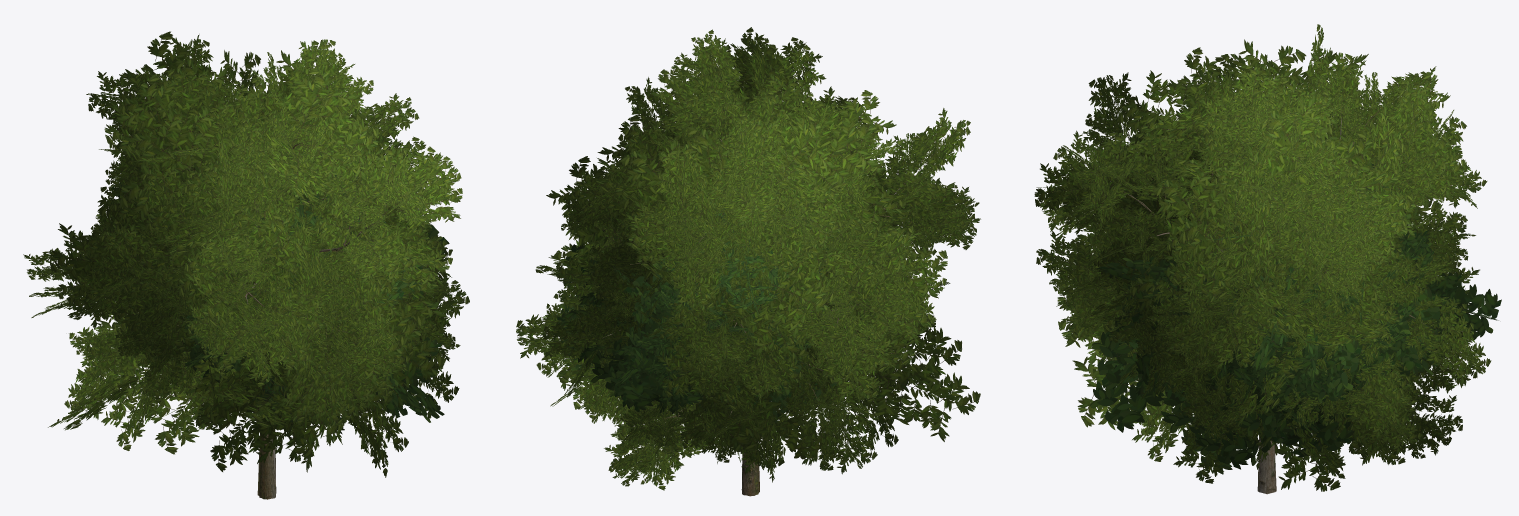
File: trees.glb
3 views of the same model, side by side, from view 1: azimuth 30°, elevation 25°; view 2: azimuth 150°, elevation 25°; view 3: azimuth 270°, elevation 25° (orthographic).
Visible parts, largest first — view 1: oak_leaves, oak_far_leaves, magnolia_far_leaves, magnolia_leaves, oak_bark, street_far_leaves, oak_far_bark; view 2: oak_leaves, oak_far_leaves, magnolia_leaves, magnolia_far_leaves, street_far_leaves, oak_bark; view 3: oak_leaves, oak_far_leaves, magnolia_far_leaves, magnolia_leaves, oak_bark.
Boxes of the visible parts, box(x1,y1,x2,y2) form: oak_leaves: box(23, 34, 469, 429); oak_far_leaves: box(48, 31, 449, 477); magnolia_far_leaves: box(142, 175, 449, 434); magnolia_leaves: box(111, 173, 430, 389); oak_bark: box(134, 106, 389, 499); street_far_leaves: box(165, 203, 323, 433); oak_far_bark: box(249, 142, 360, 499); oak_leaves: box(516, 27, 980, 490); oak_far_leaves: box(535, 44, 980, 451); magnolia_leaves: box(557, 207, 828, 416); magnolia_far_leaves: box(560, 192, 841, 438); street_far_leaves: box(673, 287, 847, 459); oak_bark: box(603, 128, 914, 496); oak_leaves: box(1034, 52, 1491, 483); oak_far_leaves: box(1056, 24, 1468, 491); magnolia_far_leaves: box(1090, 182, 1442, 474); magnolia_leaves: box(1127, 155, 1501, 447); oak_bark: box(1110, 106, 1426, 493).
Size of the model in its own units: 14.32 by 15 by 14.4.
2 materials, 2 textured.
